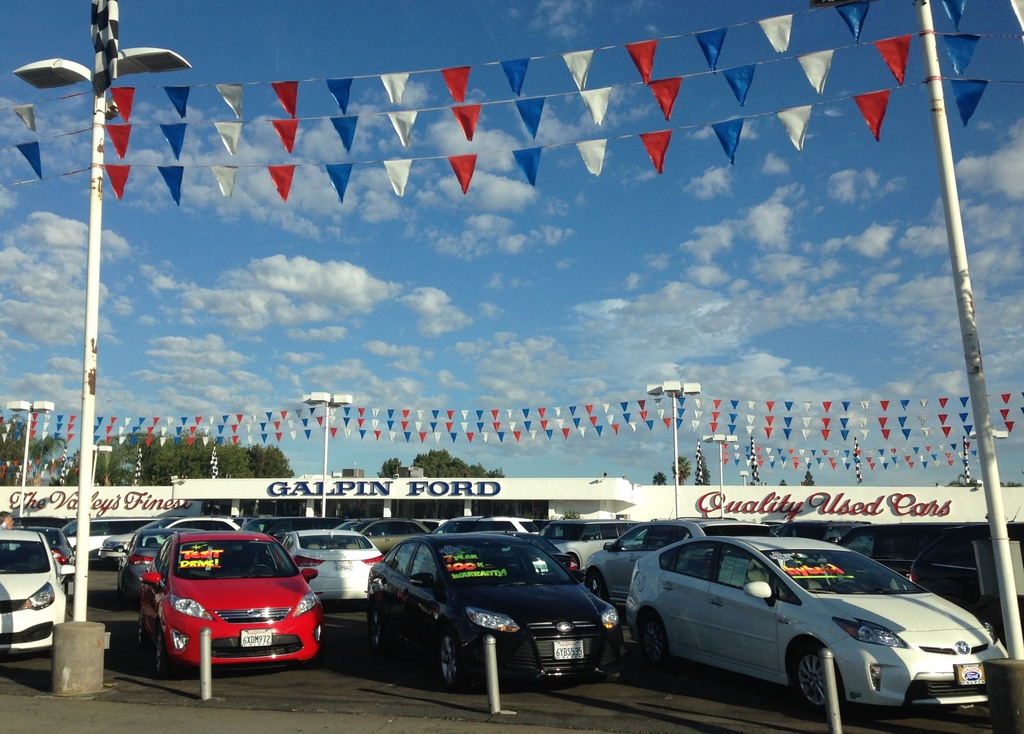cars: (0, 505, 1023, 719)
